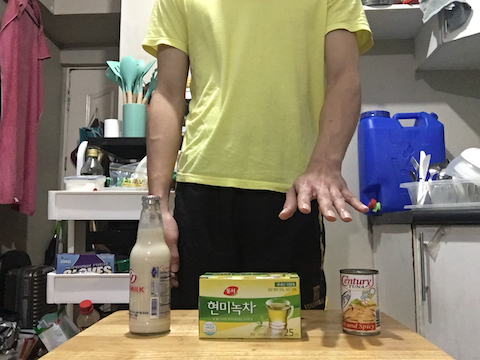bottle: (125, 191, 177, 338)
box: (193, 270, 308, 345)
can: (338, 266, 383, 340)
